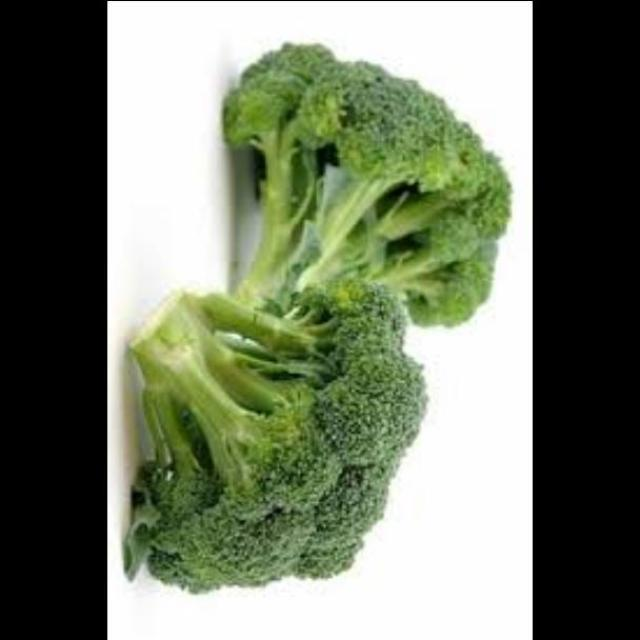Broccoli: (114, 278, 443, 596), (218, 30, 522, 364)
